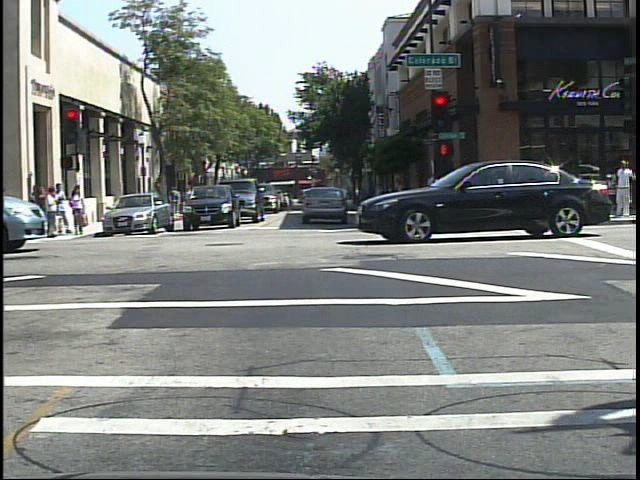person: (611, 157, 637, 222), (170, 185, 182, 217)
